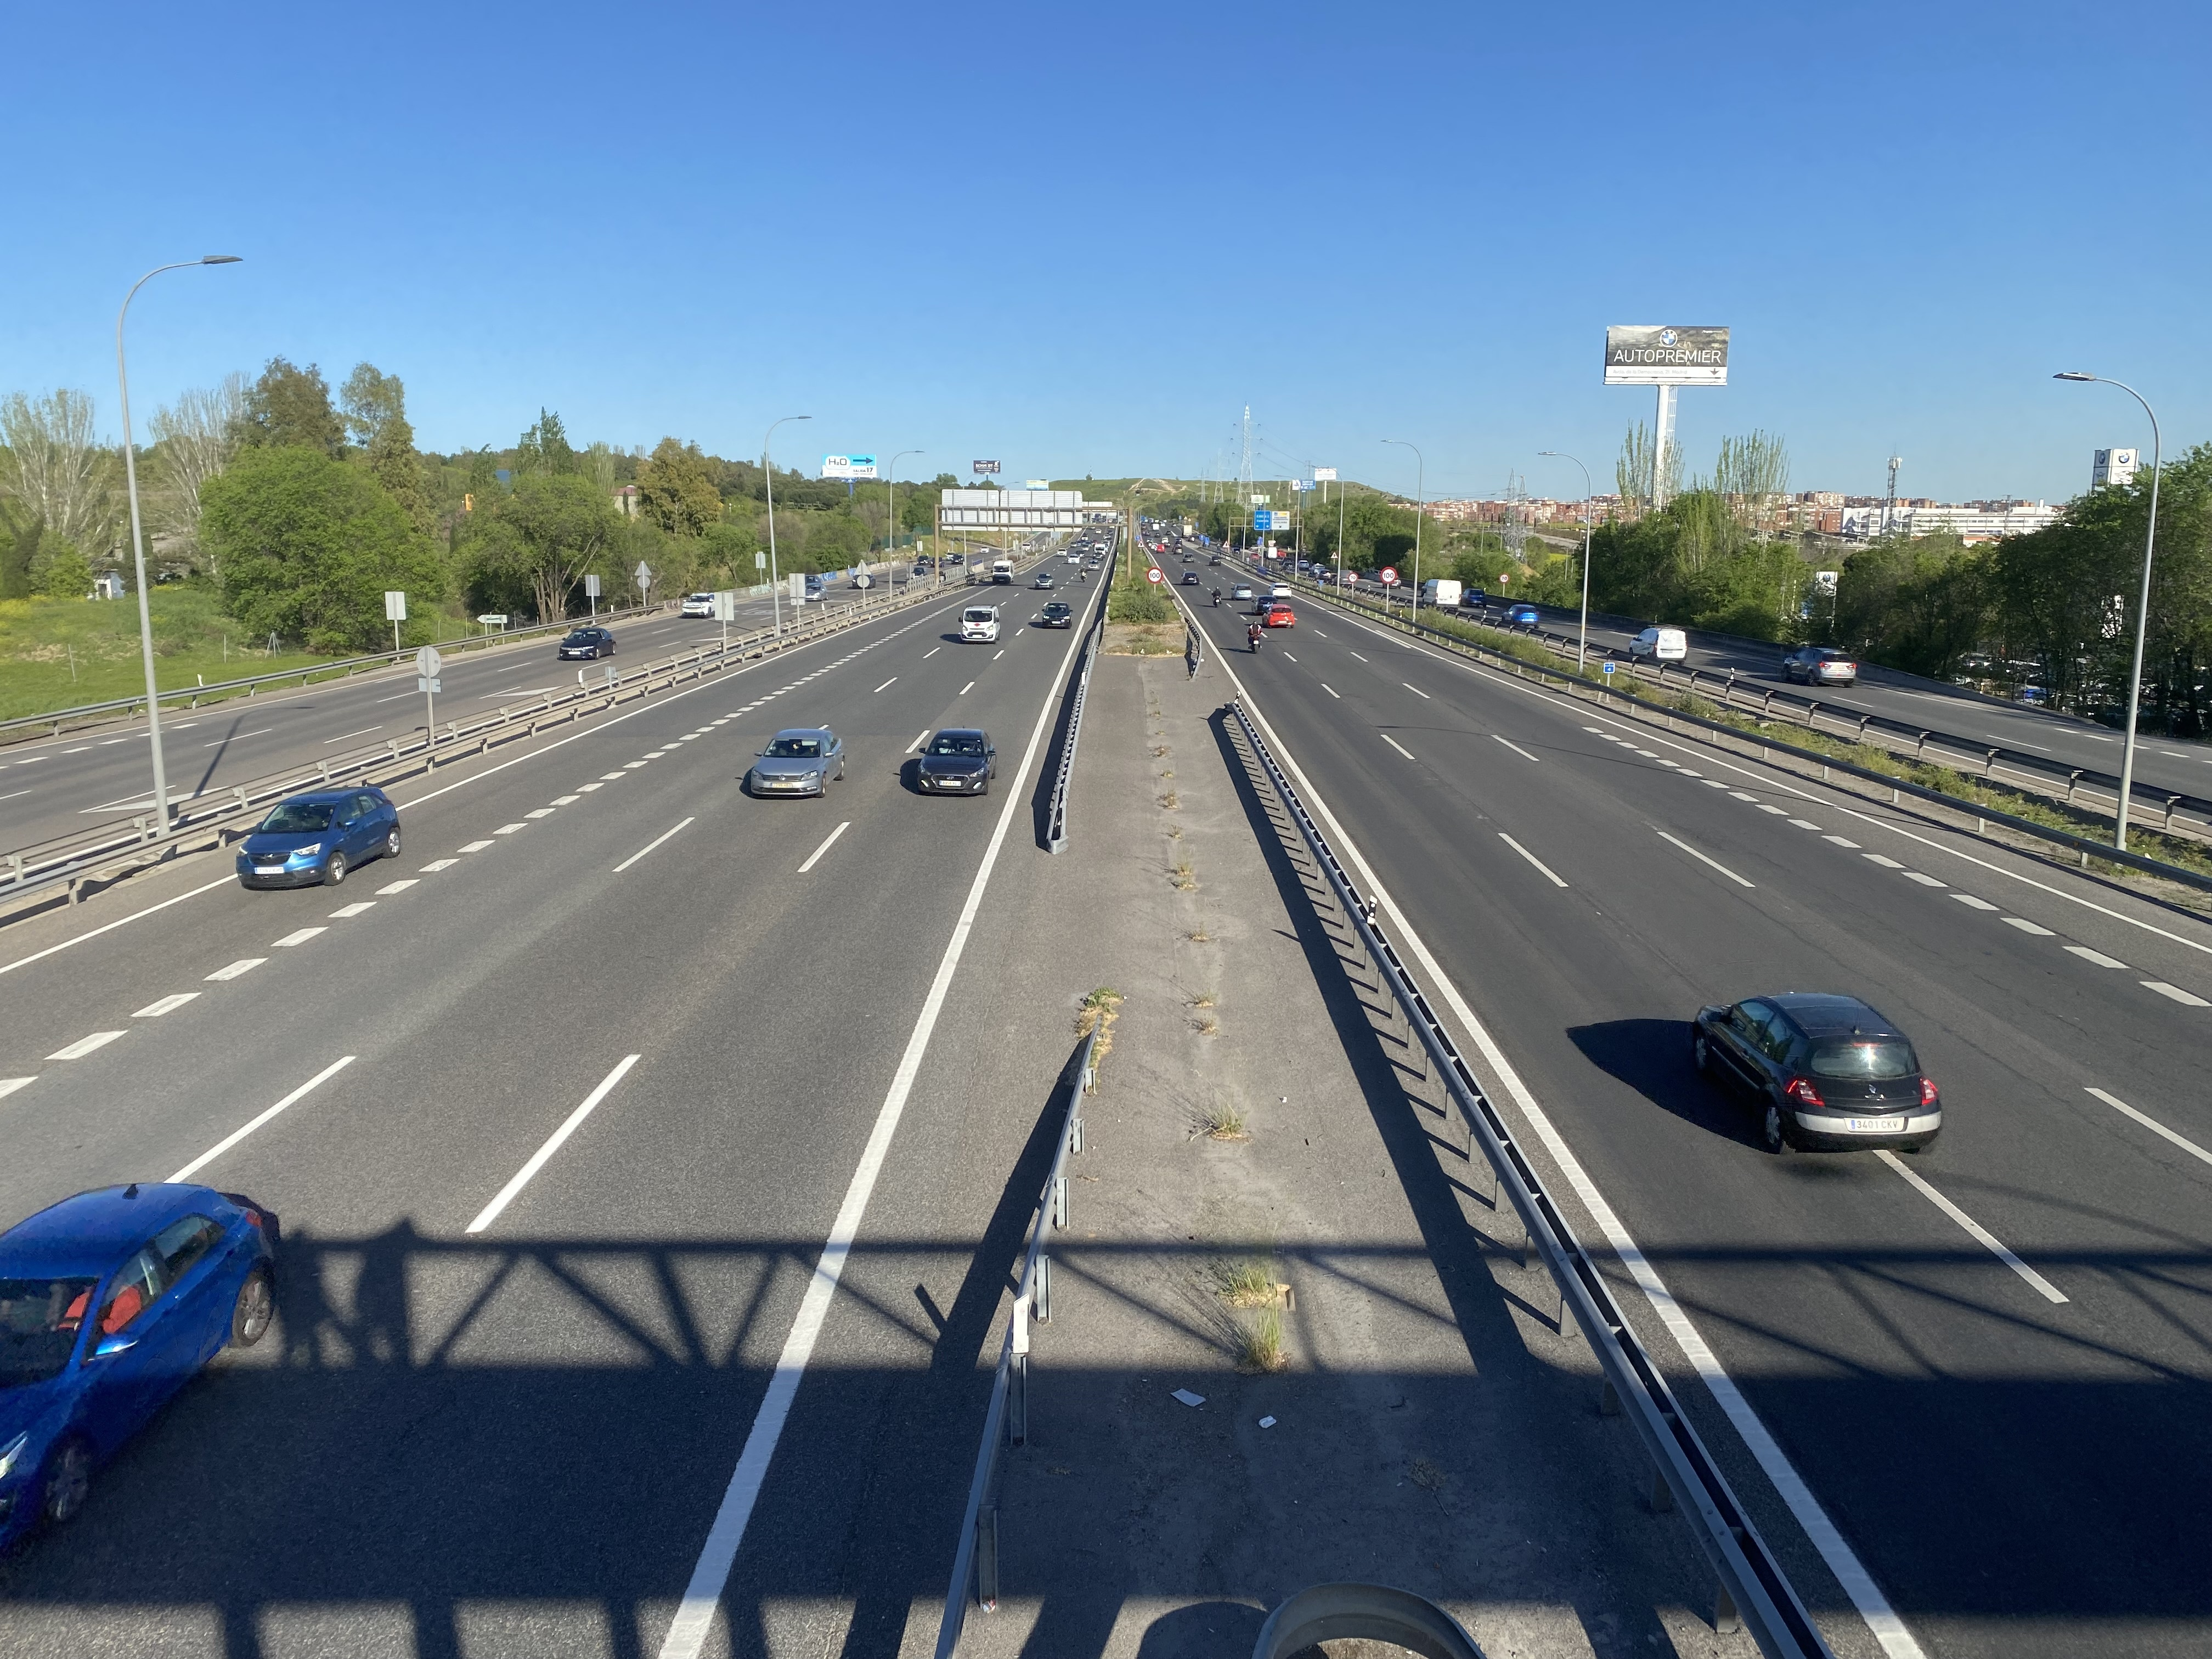cars: (0, 1182, 278, 1553), (1692, 992, 1942, 1152), (236, 787, 400, 889), (743, 725, 844, 797), (917, 728, 994, 794), (1781, 646, 1857, 685), (559, 624, 614, 661), (958, 606, 1001, 642), (1035, 599, 1074, 628), (1629, 626, 1658, 659), (681, 592, 717, 618), (1504, 605, 1539, 629), (1262, 603, 1296, 628), (2016, 685, 2049, 706), (992, 560, 1014, 584), (1247, 623, 1265, 652), (805, 575, 825, 601), (966, 563, 990, 584), (852, 567, 872, 590), (1232, 584, 1254, 601), (1268, 584, 1291, 600), (1033, 572, 1053, 589), (1181, 571, 1200, 585)
